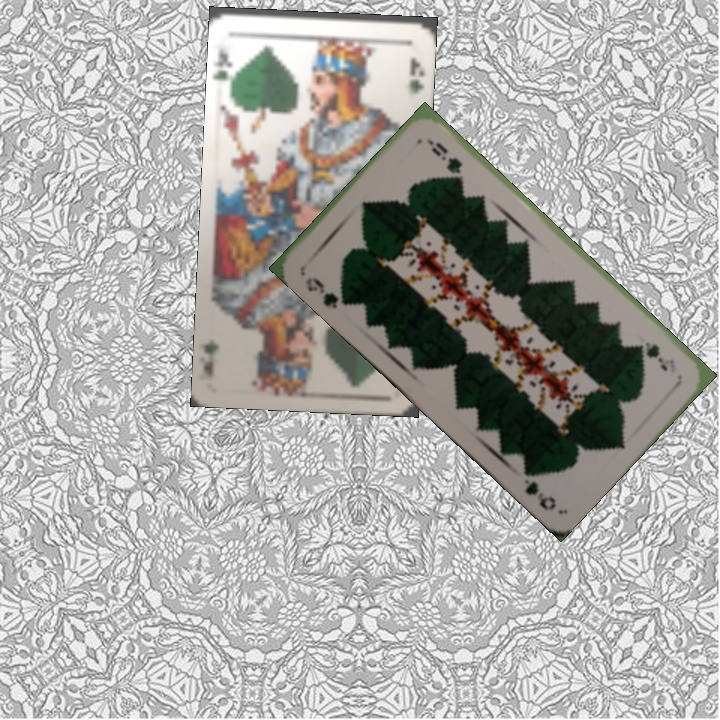G9: (301, 272, 351, 312), (636, 337, 671, 373)
GK: (213, 44, 240, 91)
